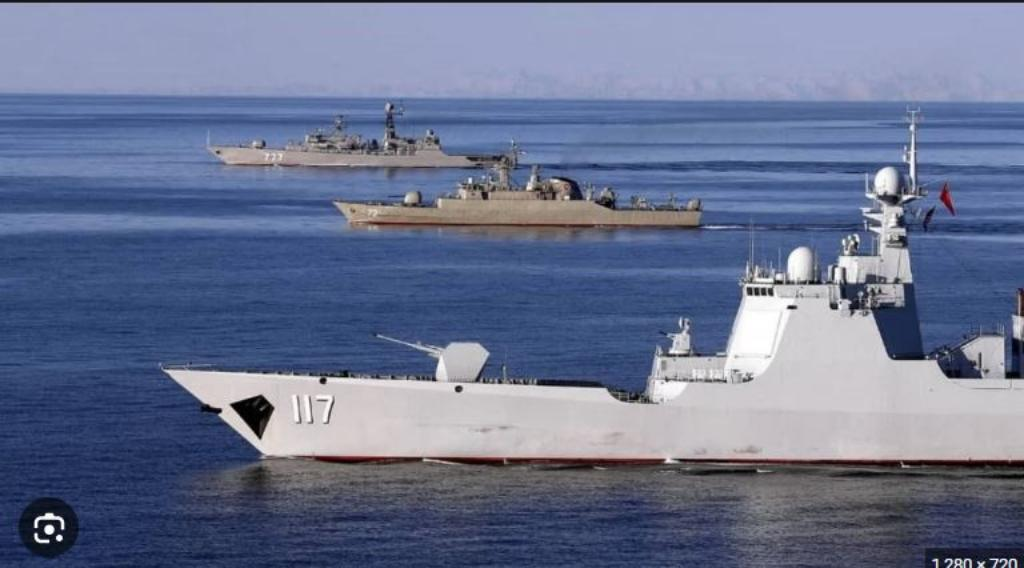Warship: (156, 129, 1024, 482), (331, 153, 721, 227), (196, 95, 532, 174)
